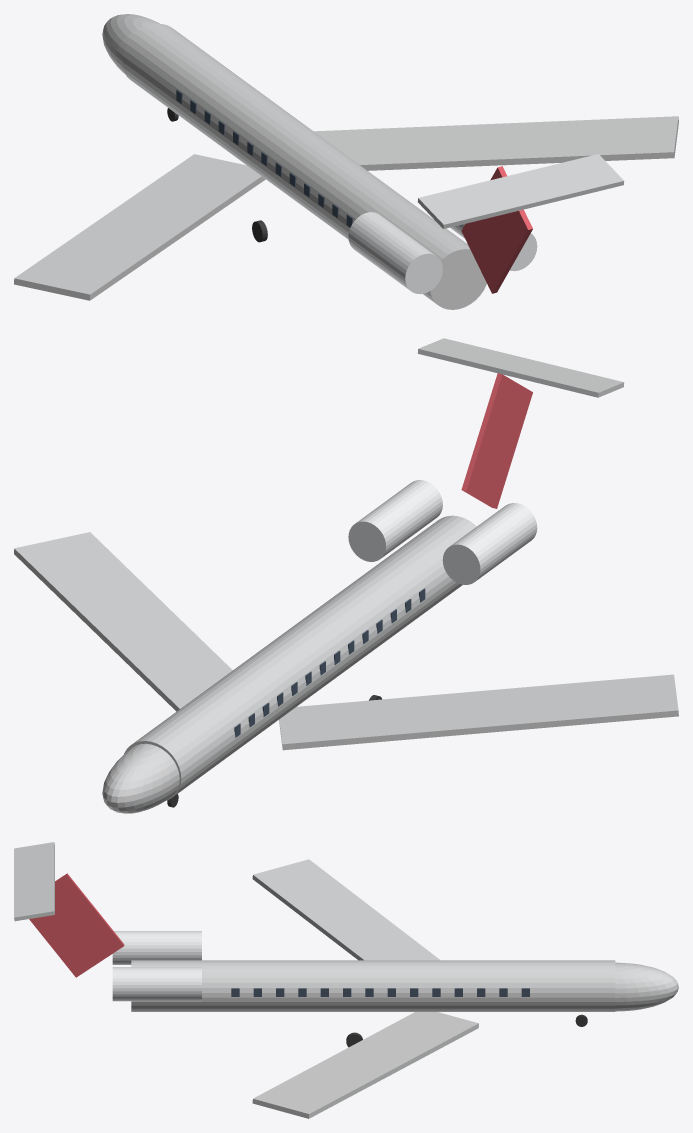
Rendered from dassault_falcon_10x.glb.
3 renders of one model, top to bottom at view 1: azimuth 30°, elevation 25°; view 2: azimuth 150°, elevation 25°; view 3: azimuth 270°, elevation 25°, orthographic. The views are drawn at different scales.
Parts seen in each view (by area): view 1: Falcon10X_Fuselage, Cube.030, Cube.031, Cube.029, Cylinder.001, Cube.028, Sphere, Cylinder; view 2: Falcon10X_Fuselage, Cube.031, Cube.030, Cube.028, Cylinder, Cylinder.001, Cube.029, Sphere; view 3: Falcon10X_Fuselage, Cube.030, Cube.031, Cube.028, Cylinder, Cube.029, Cylinder.001, Sphere.
Boxes of the visible parts, left/top/right/bottom form: Falcon10X_Fuselage: left=122, top=23, right=486, bottom=309; Cube.030: left=314, top=116, right=678, bottom=170; Cube.031: left=14, top=154, right=265, bottom=300; Cube.029: left=417, top=154, right=624, bottom=228; Cylinder.001: left=348, top=212, right=442, bottom=294; Cube.028: left=461, top=166, right=532, bottom=293; Sphere: left=102, top=14, right=159, bottom=74; Cylinder: left=450, top=224, right=537, bottom=271; Falcon10X_Fuselage: left=124, top=515, right=476, bottom=800; Cube.031: left=279, top=674, right=678, bottom=750; Cube.030: left=14, top=532, right=232, bottom=711; Cube.028: left=461, top=373, right=532, bottom=508; Cylinder: left=348, top=480, right=442, bottom=561; Cylinder.001: left=442, top=503, right=537, bottom=584; Cube.029: left=417, top=338, right=624, bottom=397; Sphere: left=102, top=743, right=179, bottom=813; Falcon10X_Fuselage: left=131, top=960, right=615, bottom=1011; Cube.030: left=252, top=1012, right=478, bottom=1118; Cube.031: left=252, top=859, right=440, bottom=960; Cube.028: left=29, top=873, right=124, bottom=977; Cylinder: left=112, top=967, right=201, bottom=1001; Cube.029: left=14, top=842, right=54, bottom=921; Cylinder.001: left=112, top=931, right=201, bottom=964; Sphere: left=615, top=962, right=678, bottom=1011.
Bounding box in the file's own units: 32.43 × 9.04 × 35.73.
